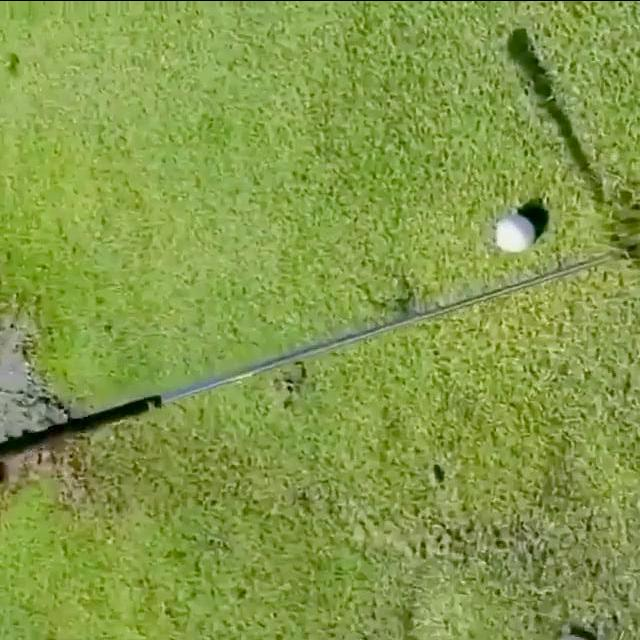golf ball: (497, 210, 538, 252)
golf club-handle: (0, 250, 624, 464)
